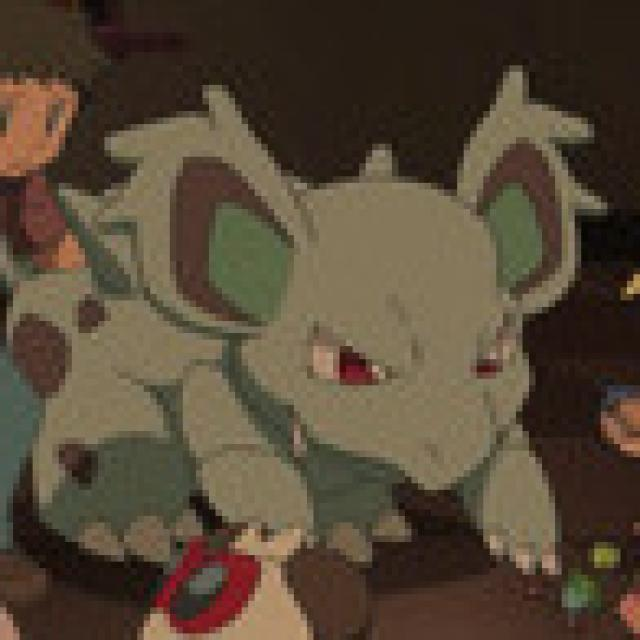Nidorina: (31, 95, 584, 555)
